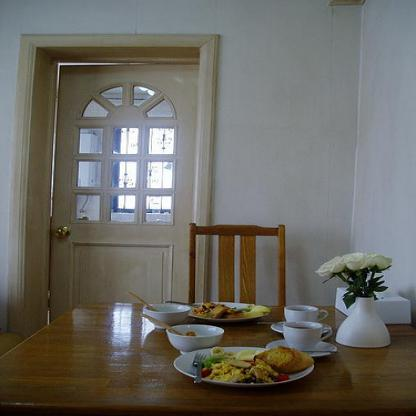chair: (188, 222, 286, 305)
diningtable: (0, 300, 415, 416)
